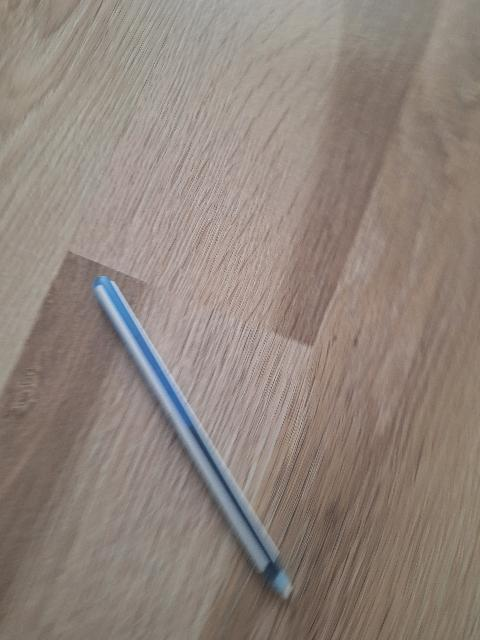writing_tool: (86, 276, 299, 609)
